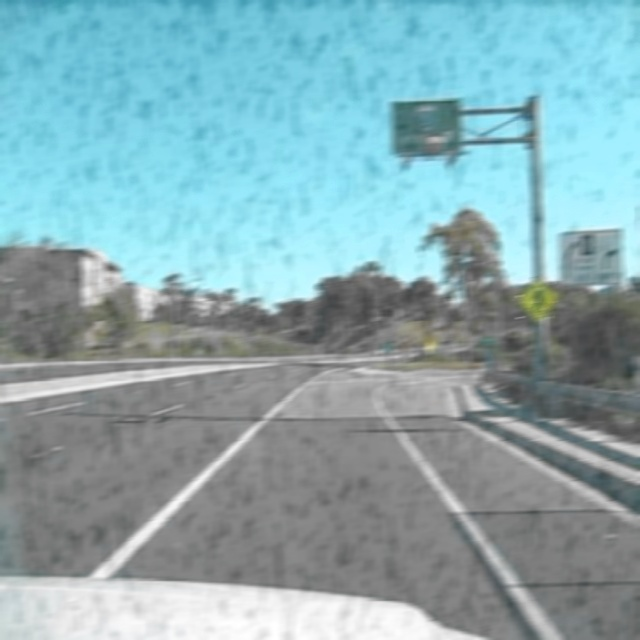pedestrianCrossing: (518, 276, 556, 324)
